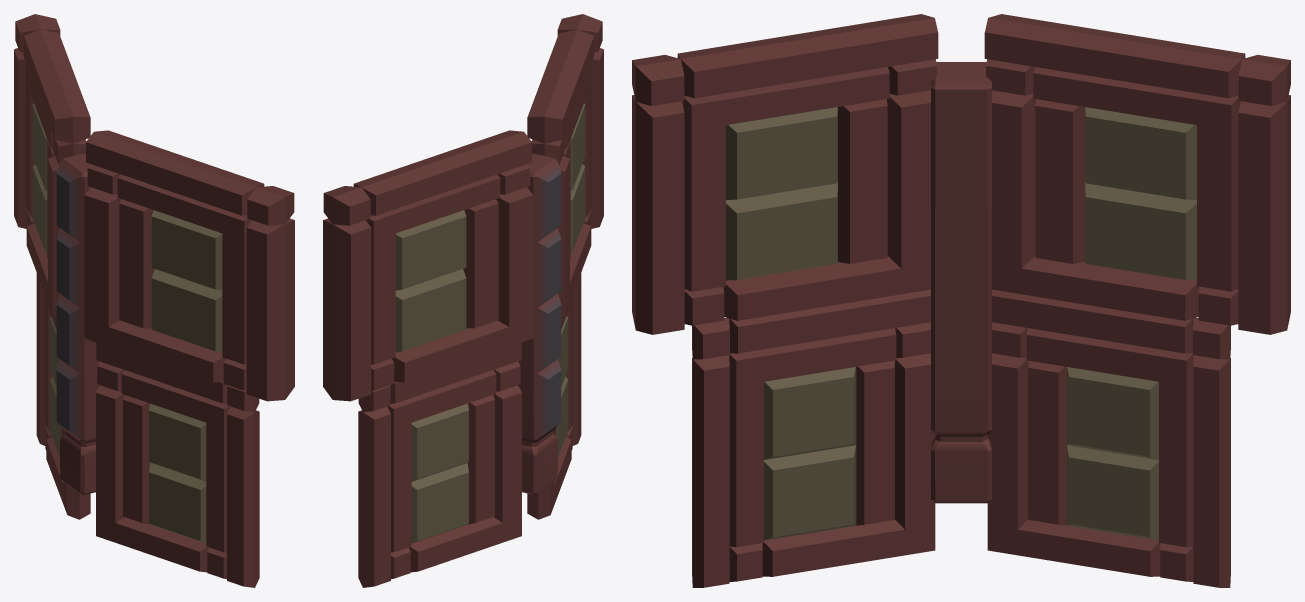
File: ENV_Relic_01_Butterfly.fbx
3 renders of one model, left to right at view 1: azimuth 30°, elevation 25°; view 2: azimuth 150°, elevation 25°; view 3: azimuth 270°, elevation 25°, orthographic. The views are drawn at different scales.
Visible parts, largest first — view 1: ENV_Relic_01_Butterfly; view 2: ENV_Relic_01_Butterfly; view 3: ENV_Relic_01_Butterfly.
Boxes of the visible parts, box(x1,y1,x2,y2) form: ENV_Relic_01_Butterfly: box(14, 14, 294, 587); ENV_Relic_01_Butterfly: box(323, 14, 603, 587); ENV_Relic_01_Butterfly: box(632, 14, 1290, 587).
Bounding box in the file's own units: 46.6 × 159 × 180.
